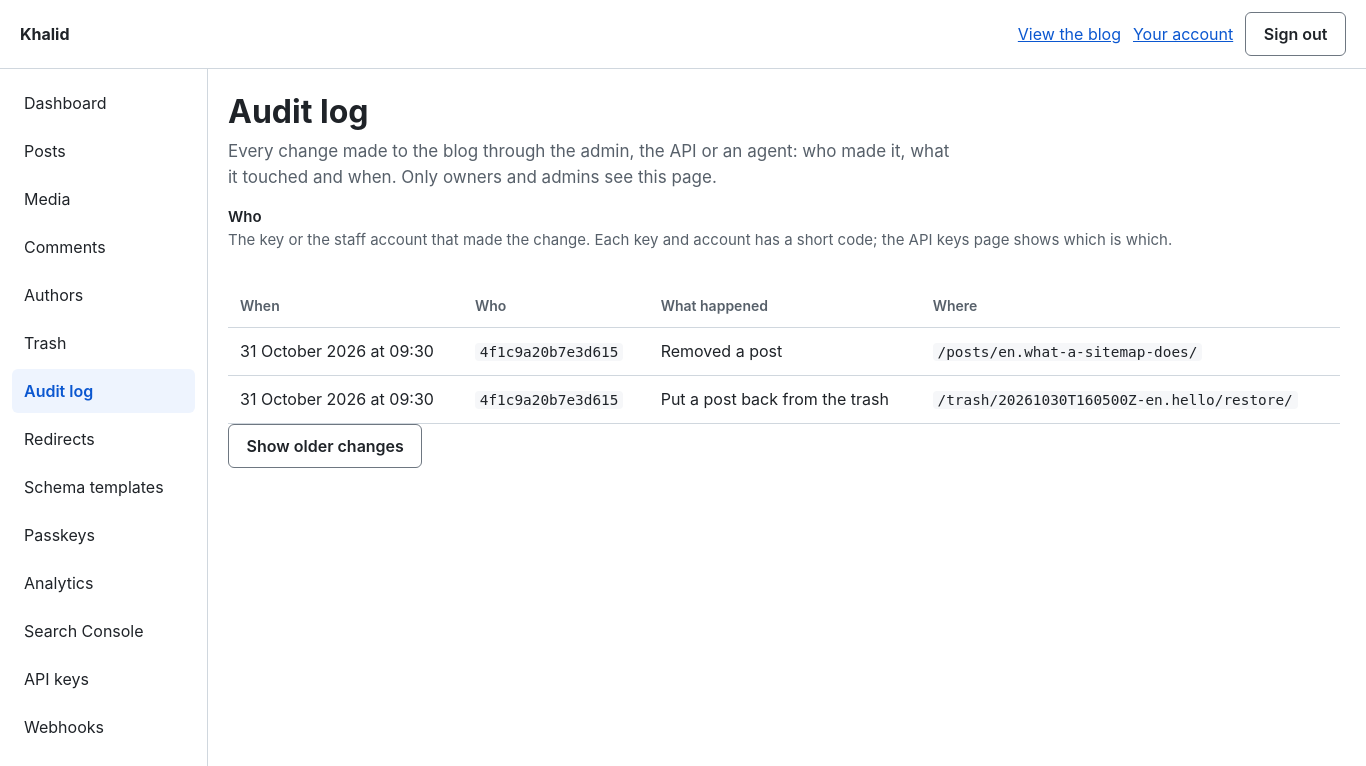
Test: the audit log › shows older changes a page at a time
The width and height of the screenshot is (1366, 766).
Click the button "Show older changes": {"x": 325, "y": 446} [228,424,422,468]
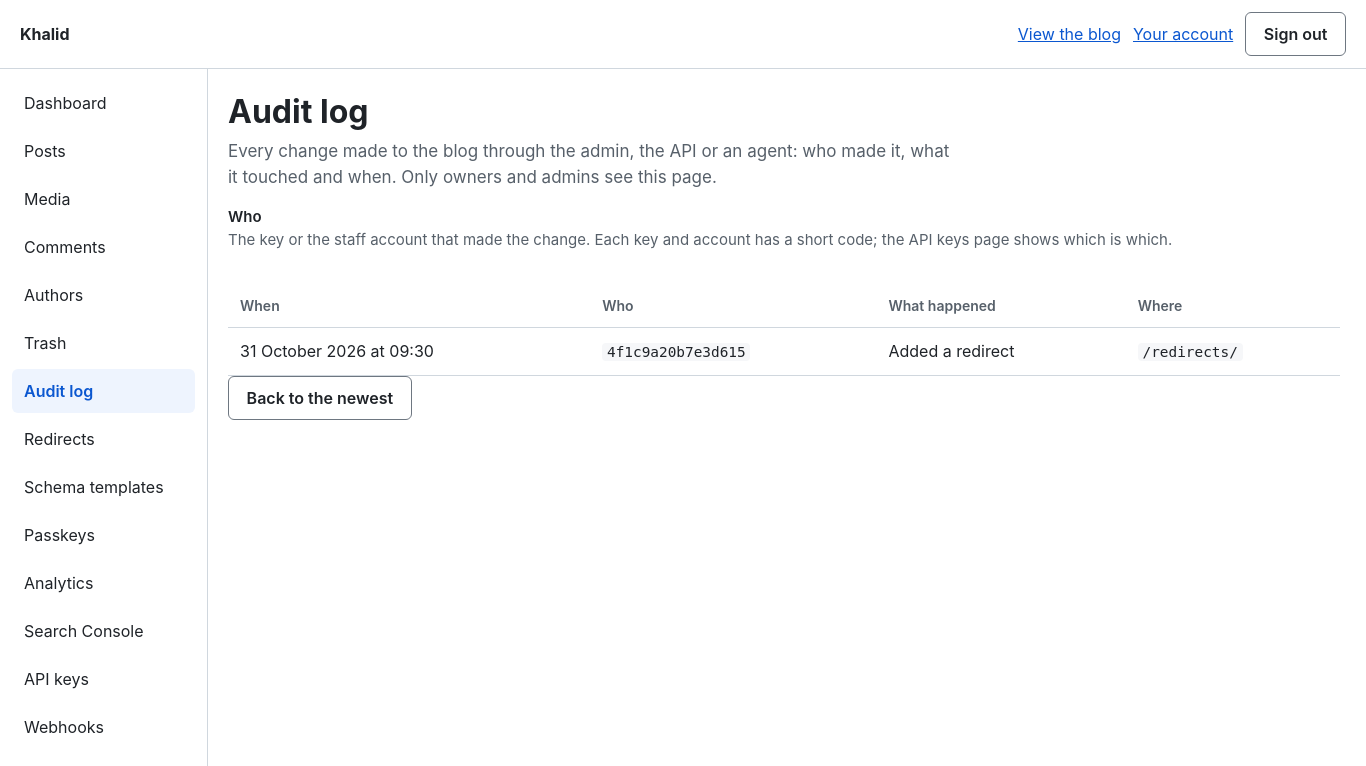
Check: the text "Added a redirect" is shown, box [876,327,1126,375]
Check: the text "Removed a post" is gone
Click the button "Back to the newest": {"x": 320, "y": 398} [228,376,412,420]
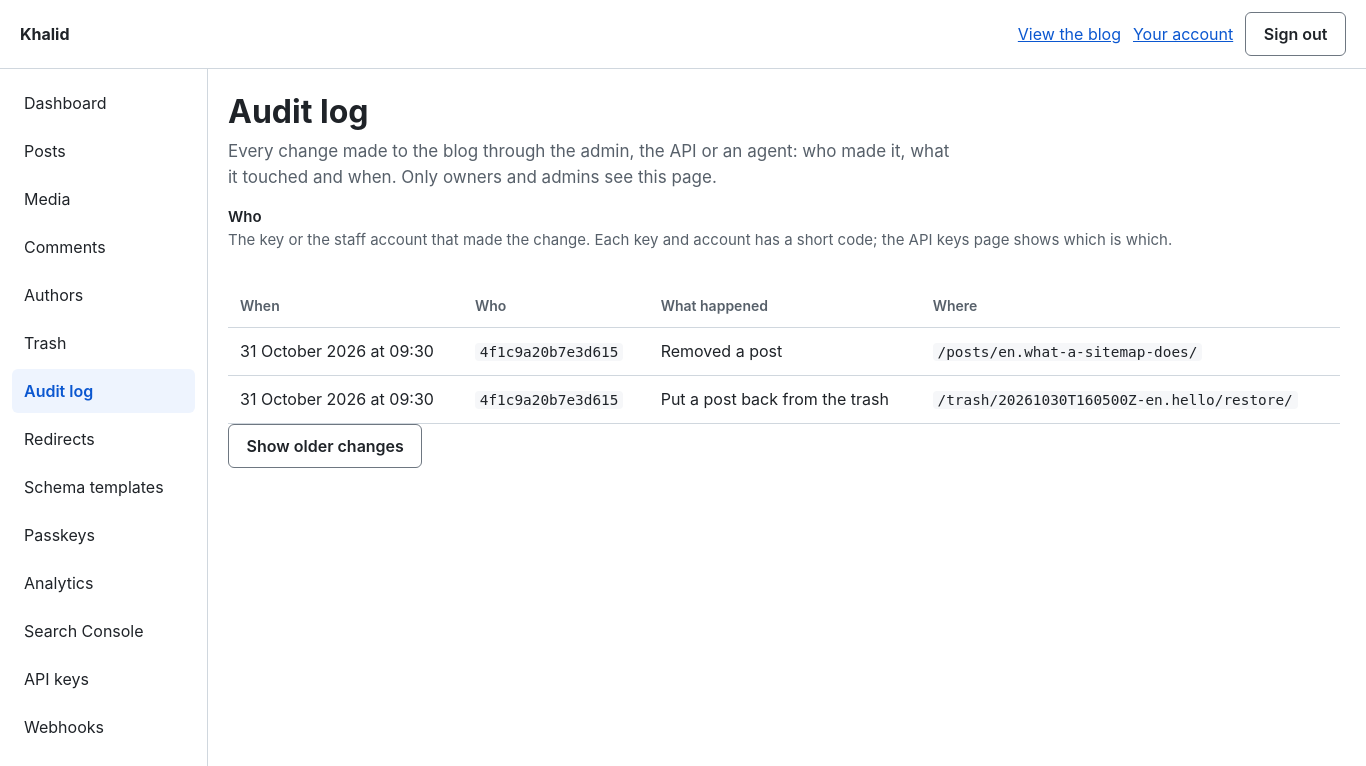
Check: the text "Removed a post" is shown, box [649,327,921,375]
